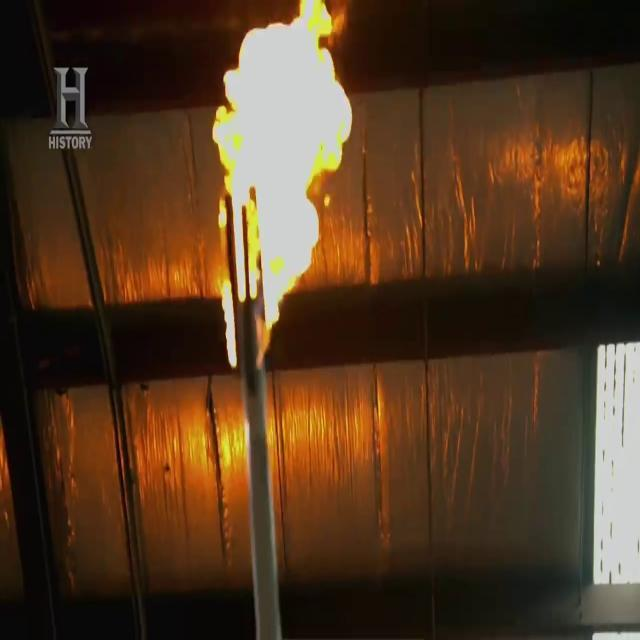Fire: (190, 5, 345, 379)
